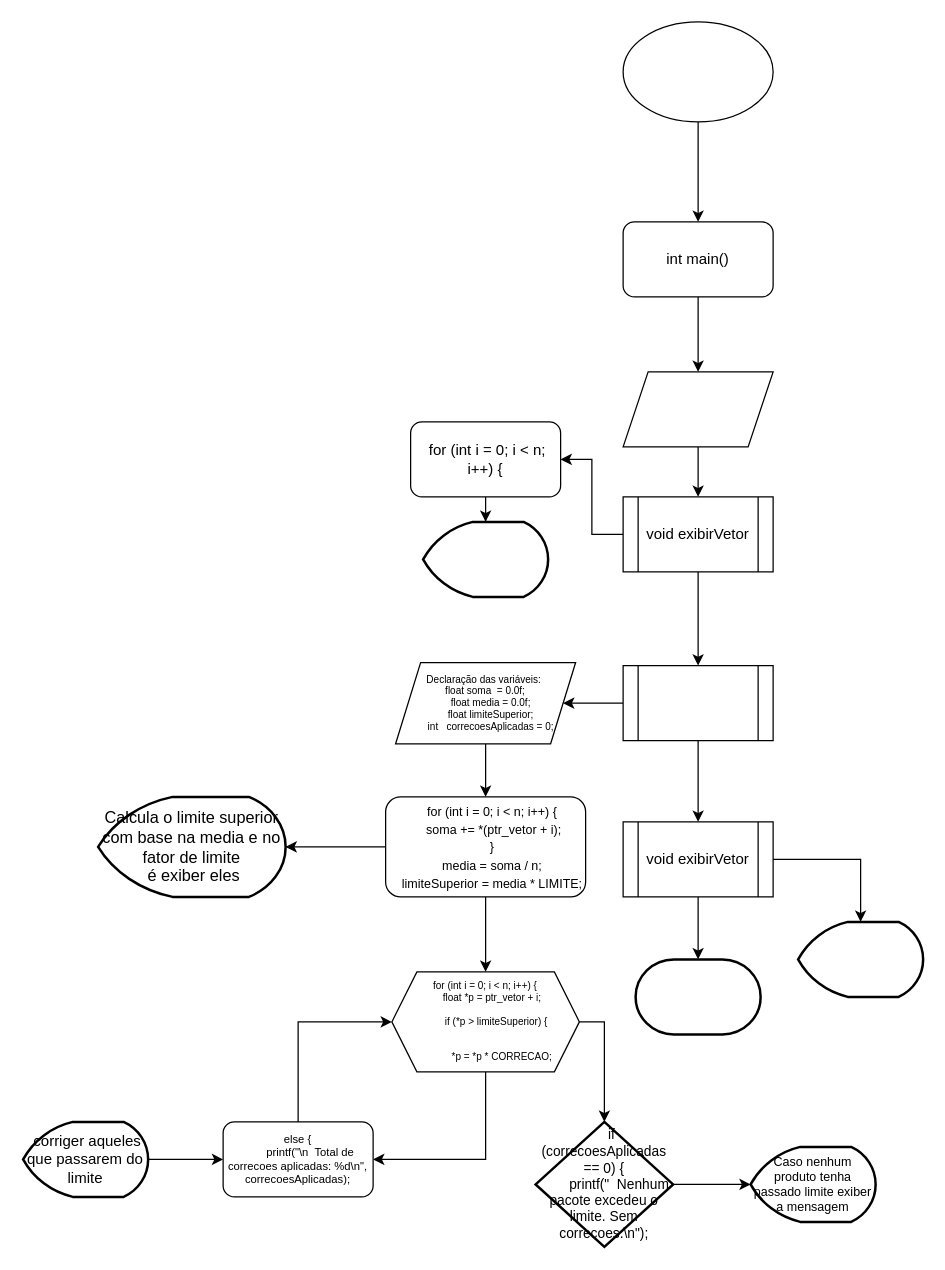
Some shapes in this 945 by 1270 pixel diagram are drawn without their labels. The centre of each missing label's shape, as x and y in pixels:
Declaração da variável: float pesos[TAMANHO]: (697,409)
Exibe novamente os valores depois de aplicar as correções: (860,959)
Exibe os valores dos produtos: (485,559)
Fim do programa: (697,996)
gestão de carga em lógistica: (697,71)
void processarCarga: (697,702)
